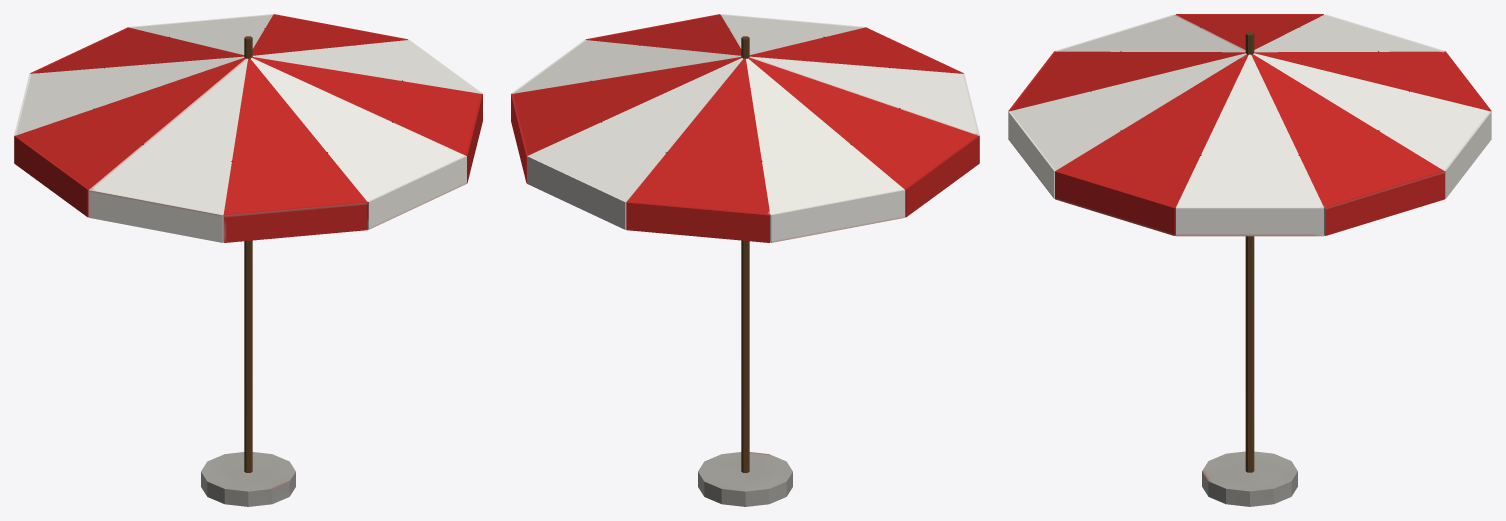
File: slunecnik_bdbb7d71.glb
3 views of the same model, side by side, from view 1: azimuth 30°, elevation 25°; view 2: azimuth 150°, elevation 25°; view 3: azimuth 270°, elevation 25° (orthographic).
Visible parts, largest first — view 1: dum; view 2: dum; view 3: dum.
Part boxes in pixels (bbox=[...]): dum: bbox=[14, 14, 482, 506]; dum: bbox=[511, 14, 979, 506]; dum: bbox=[1008, 14, 1491, 506].
Size of the model in its own units: 2.68 by 2.91 by 2.82.
1 material, 1 textured.
